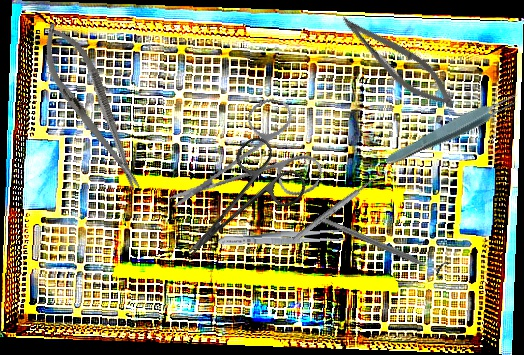Dressing Forceps: (217, 227, 346, 249)
Fixation Ring: (317, 209, 450, 282)
Iris Scissors: (166, 77, 340, 249), (160, 130, 312, 281)
Micro Scissor: (328, 7, 466, 118)
Needle Holder: (28, 14, 156, 200)
Surgical Spoon: (291, 168, 388, 243)
Tissue Forceps: (382, 88, 524, 171)
